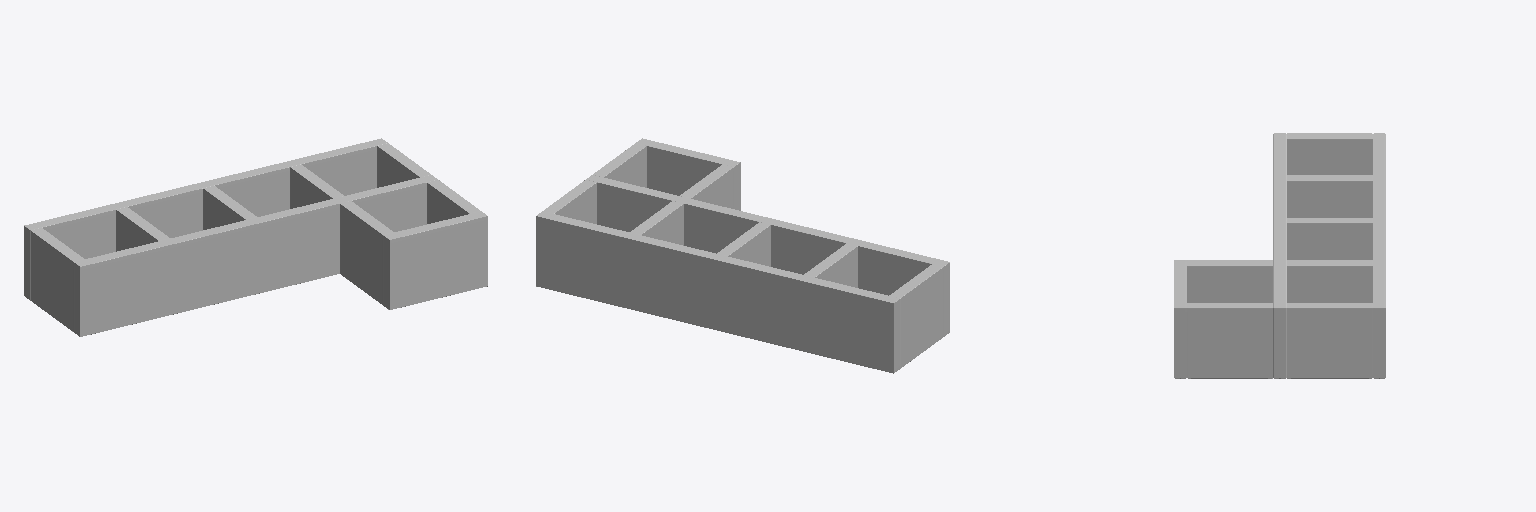
The model's file is BoConcept Bookcase L1.obj.
3 views of the same model, side by side, from view 1: azimuth 30°, elevation 25°; view 2: azimuth 150°, elevation 25°; view 3: azimuth 270°, elevation 25° (orthographic).
Parts seen in each view (by area): view 1: BoConcept_Bookcase; view 2: BoConcept_Bookcase; view 3: BoConcept_Bookcase.
Part boxes in pixels (x1,y1,x2,y2): BoConcept_Bookcase: (24, 138, 487, 336); BoConcept_Bookcase: (536, 138, 949, 373); BoConcept_Bookcase: (1174, 133, 1385, 378).
Size of the model in its own units: 62.8 by 11.81 by 32.28.